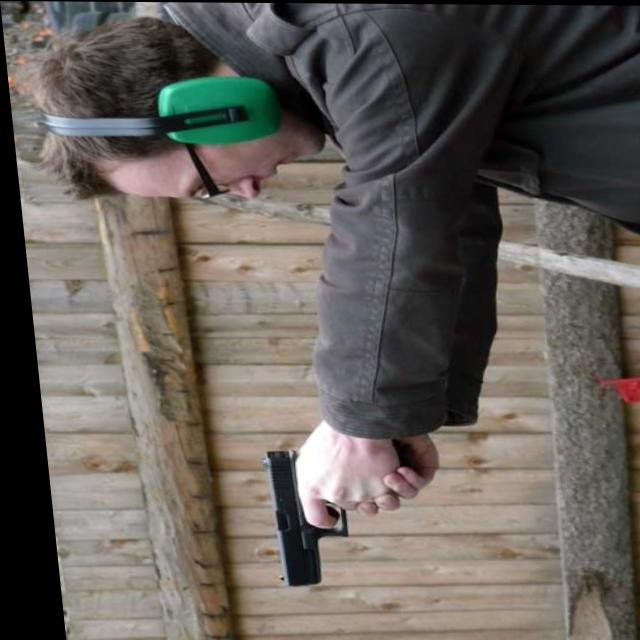handgun: (247, 446, 347, 589)
